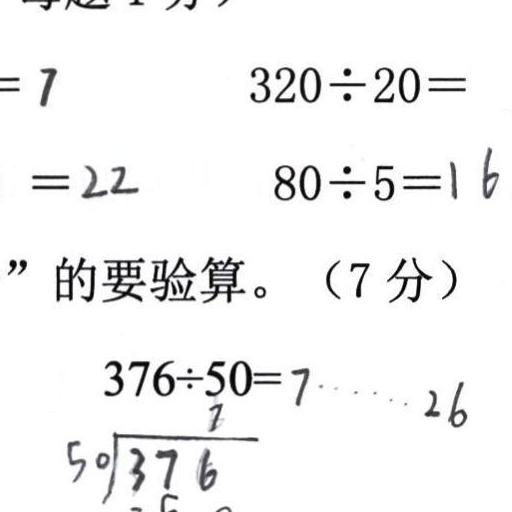ans: (286, 363, 468, 428), (441, 142, 498, 200), (76, 156, 137, 200), (31, 60, 59, 107)
